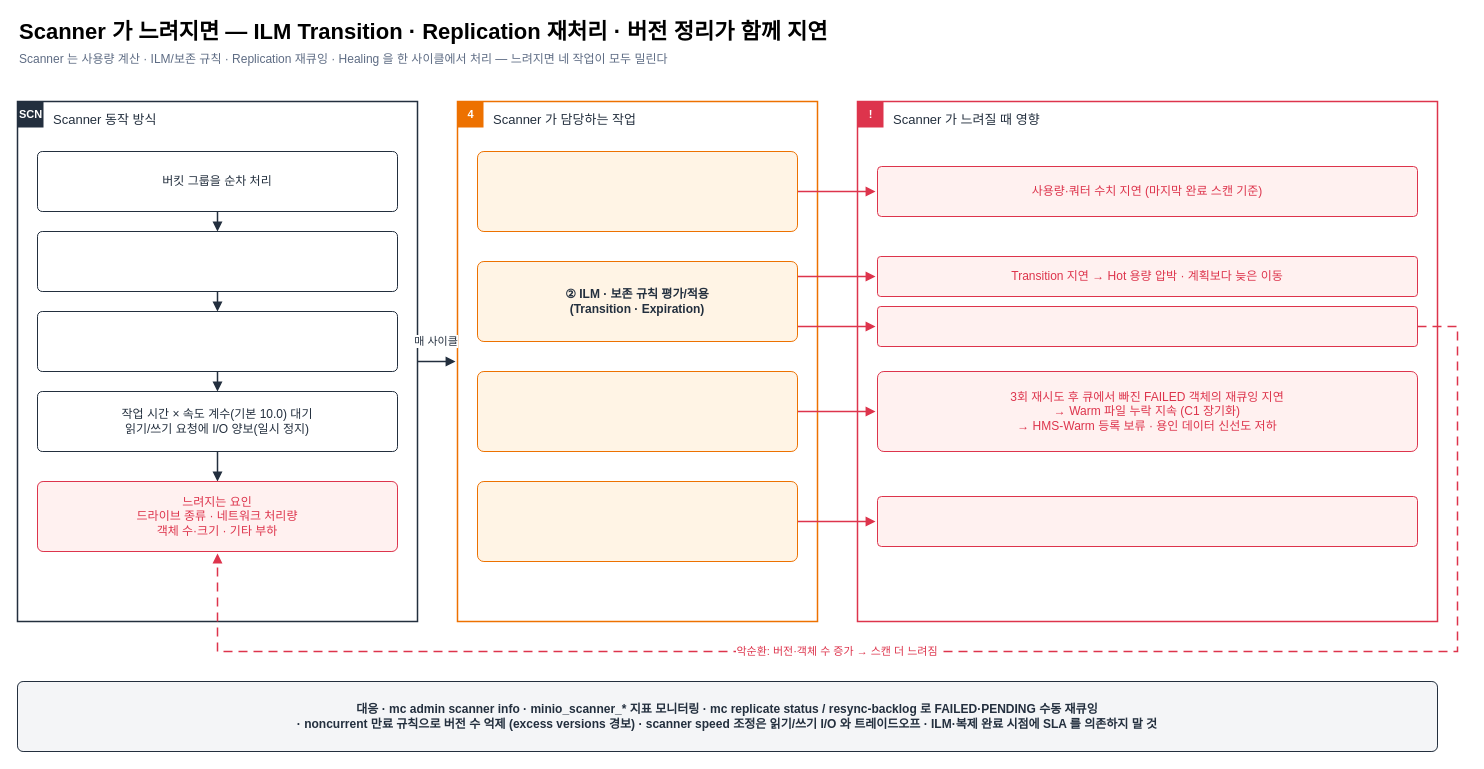
Some shapes in this 1484 by 769 pixel diagram are drawn without their labels. Here are the shapes that lost their labels. From the top down, the centre of each, then its label:
At (x=637, y=191): "① 데이터 사용량 계산".
At (x=217, y=261): "버킷 스캔 완료 후 30초 대기 → 다음 버킷".
At (x=217, y=341): "객체명 해시로 대상 선택 16회 스캔에 걸쳐 전체 객체 1회 확인".
At (x=1147, y=326): "Expiration · noncurrent 정리 지연 → 버전 누적".
At (x=637, y=411): "③ Bucket/Site Replication PENDING · FAILED 객체 재큐잉".
At (x=637, y=521): "④ 누락·손상 데이터 Healing".
At (x=1147, y=521): "누락·손상 객체 복구(Healing) 지연".
